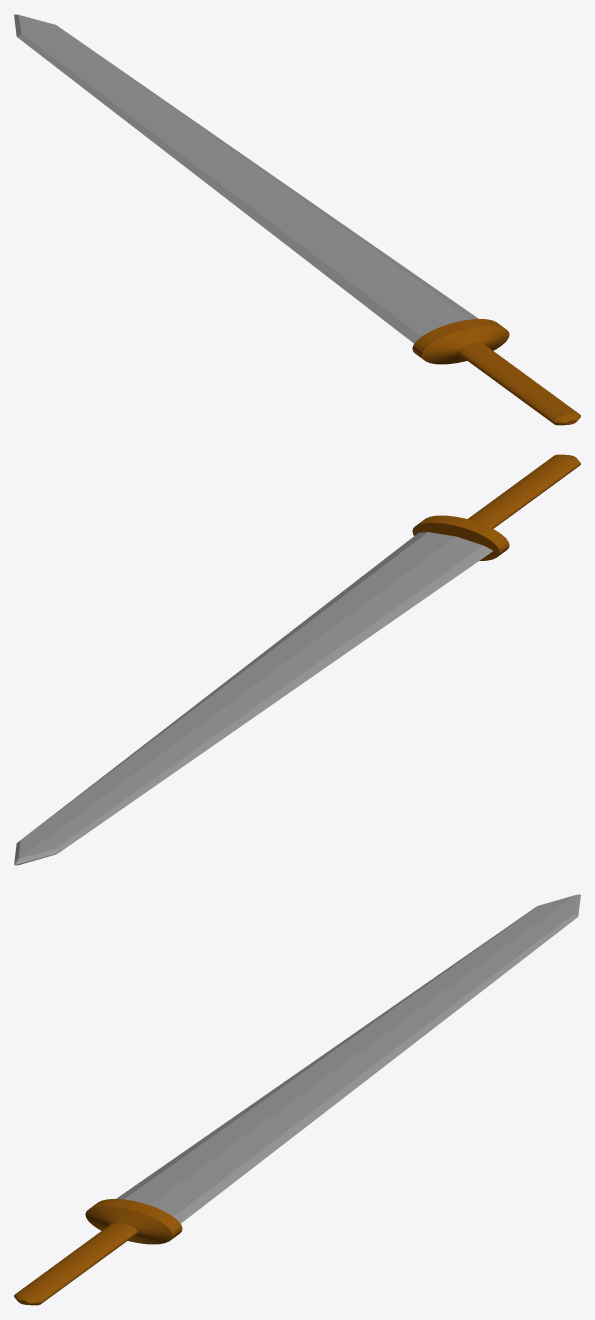
File: Sword.fbx
3 views of the same model, one above another, from view 1: azimuth 30°, elevation 25°; view 2: azimuth 150°, elevation 25°; view 3: azimuth 330°, elevation 25° (orthographic).
Visible parts, largest first — view 1: Sword, Sword_Body; view 2: Sword, Sword_Body; view 3: Sword, Sword_Body.
Boxes of the visible parts, x1=… form: Sword: x1=14, y1=14, x2=478, y2=343; Sword_Body: x1=412, y1=319, x2=580, y2=425; Sword: x1=14, y1=532, x2=492, y2=865; Sword_Body: x1=412, y1=454, x2=580, y2=560; Sword: x1=116, y1=894, x2=580, y2=1223; Sword_Body: x1=14, y1=1199, x2=182, y2=1305.
Size of the model in its own units: 106 by 37.17 by 1172.
